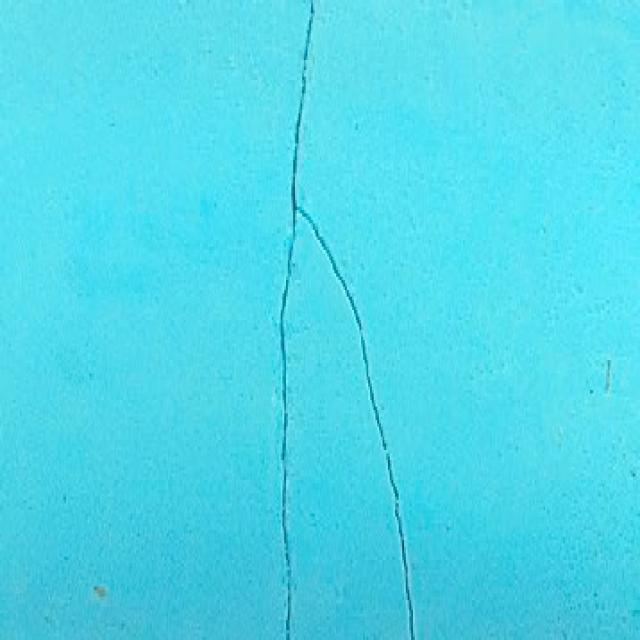crack: (267, 0, 434, 640)
